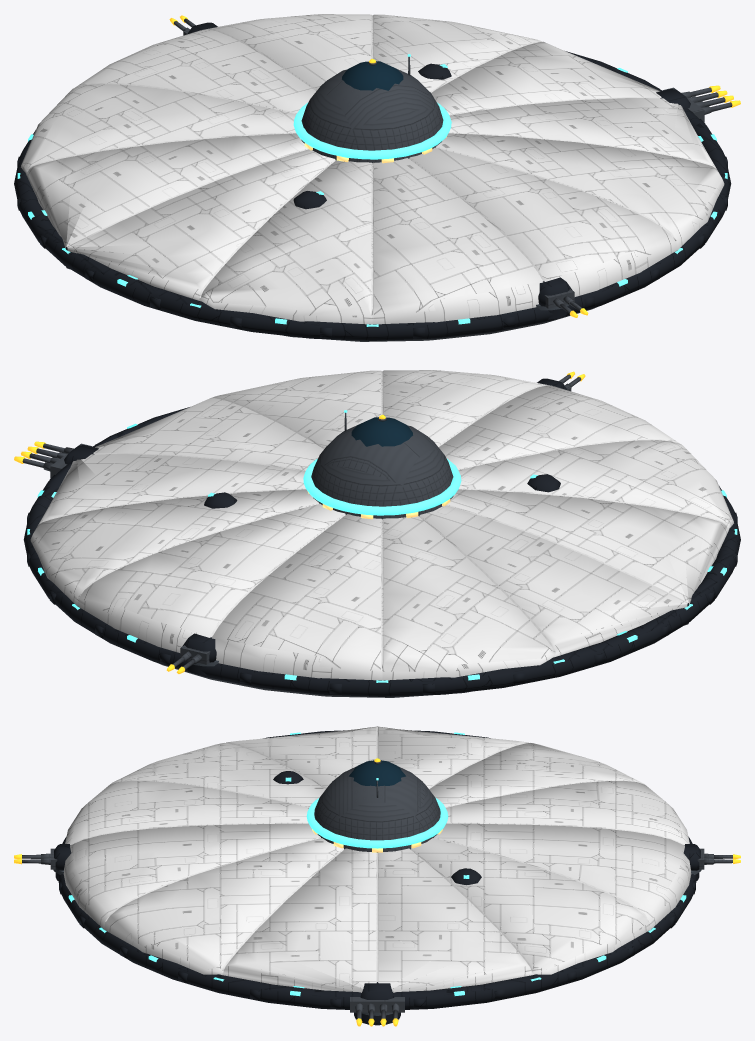
The model's file is saucer_production_v1_lod2.glb.
3 views of the same model, one above another, from view 1: azimuth 30°, elevation 25°; view 2: azimuth 150°, elevation 25°; view 3: azimuth 270°, elevation 25° (orthographic). The views are drawn at different scales.
Parts seen in each view (by area): view 1: LOD0_MOTION_HULL_CORE_Hull, LOD0_MOTION_HULL_CORE_Armor, LOD0_MOTION_HULL_CORE_Mechanical, LOD0_MOTION_HULL_CORE_MechanicalDark, LOD0_MOTION_HULL_CORE_Lights_Cyan, LOD0_MOTION_HULL_CORE_CANOPY; view 2: LOD0_MOTION_HULL_CORE_Hull, LOD0_MOTION_HULL_CORE_Armor, LOD0_MOTION_HULL_CORE_Mechanical, LOD0_MOTION_HULL_CORE_MechanicalDark, LOD0_MOTION_HULL_CORE_Lights_Cyan, LOD0_MOTION_HULL_CORE_CANOPY; view 3: LOD0_MOTION_HULL_CORE_Hull, LOD0_MOTION_HULL_CORE_Armor, LOD0_MOTION_HULL_CORE_Mechanical, LOD0_MOTION_HULL_CORE_MechanicalDark, LOD0_MOTION_HULL_CORE_Lights_Cyan, LOD0_MOTION_HULL_CORE_CANOPY.
Part boxes in pixels (x1,y1,x2,y2): LOD0_MOTION_HULL_CORE_Hull: (21, 14, 724, 324); LOD0_MOTION_HULL_CORE_Armor: (14, 22, 731, 340); LOD0_MOTION_HULL_CORE_Mechanical: (67, 18, 732, 341); LOD0_MOTION_HULL_CORE_MechanicalDark: (27, 15, 717, 315); LOD0_MOTION_HULL_CORE_Lights_Cyan: (17, 54, 727, 326); LOD0_MOTION_HULL_CORE_CANOPY: (342, 61, 403, 90); LOD0_MOTION_HULL_CORE_Hull: (30, 370, 733, 680); LOD0_MOTION_HULL_CORE_Armor: (23, 378, 740, 696); LOD0_MOTION_HULL_CORE_Mechanical: (22, 374, 687, 697); LOD0_MOTION_HULL_CORE_MechanicalDark: (39, 371, 727, 671); LOD0_MOTION_HULL_CORE_Lights_Cyan: (27, 410, 737, 682); LOD0_MOTION_HULL_CORE_CANOPY: (351, 417, 412, 446); LOD0_MOTION_HULL_CORE_Hull: (63, 726, 691, 992); LOD0_MOTION_HULL_CORE_Armor: (54, 730, 700, 1025); LOD0_MOTION_HULL_CORE_Mechanical: (22, 766, 732, 1018); LOD0_MOTION_HULL_CORE_MechanicalDark: (70, 726, 684, 982); LOD0_MOTION_HULL_CORE_Lights_Cyan: (68, 732, 686, 996); LOD0_MOTION_HULL_CORE_CANOPY: (349, 760, 405, 786).
Size of what is drawn, in the model's own units: 20.96 by 7.56 by 22.06.
Materials: 12 (5 with a texture image).
